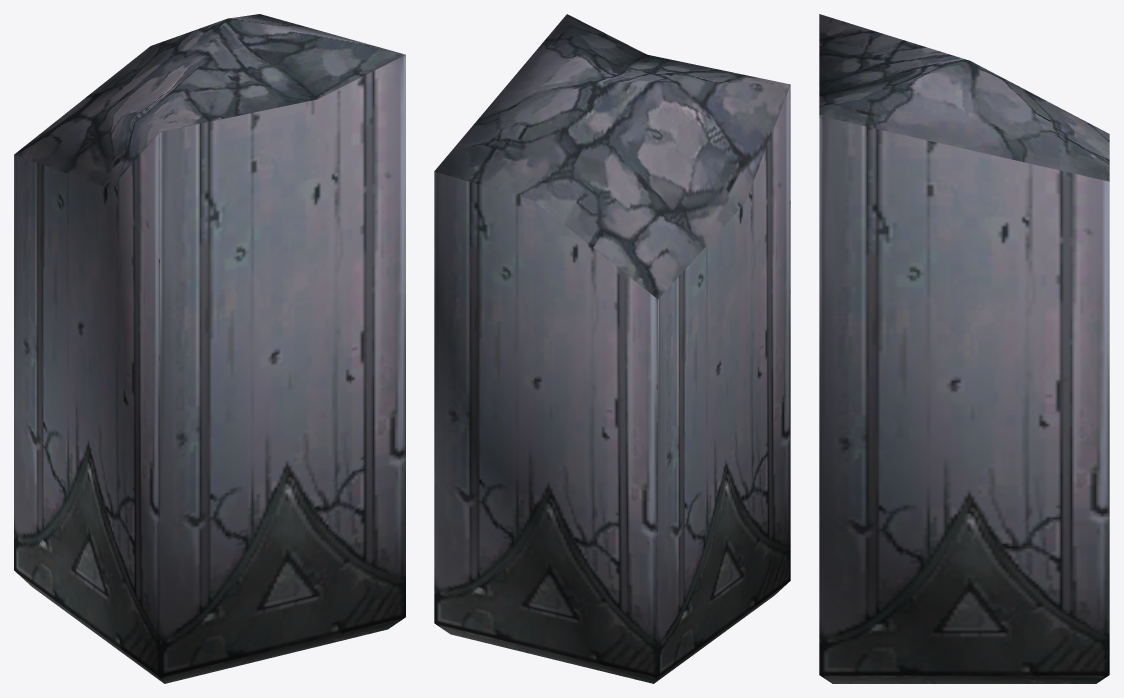
The model's file is TwistedJungle_columns01.FBX.
3 views of the same model, side by side, from view 1: azimuth 30°, elevation 25°; view 2: azimuth 150°, elevation 25°; view 3: azimuth 270°, elevation 25° (orthographic). The views are drawn at different scales.
Visible parts, largest first — view 1: TwistedJungle_columns01; view 2: TwistedJungle_columns01; view 3: TwistedJungle_columns01.
Boxes of the visible parts, <box> form: TwistedJungle_columns01: <box>14,14,405,683</box>; TwistedJungle_columns01: <box>434,14,790,683</box>; TwistedJungle_columns01: <box>819,14,1109,683</box>.
Bounding box in the file's own units: 4.78 × 10.83 × 4.92.
